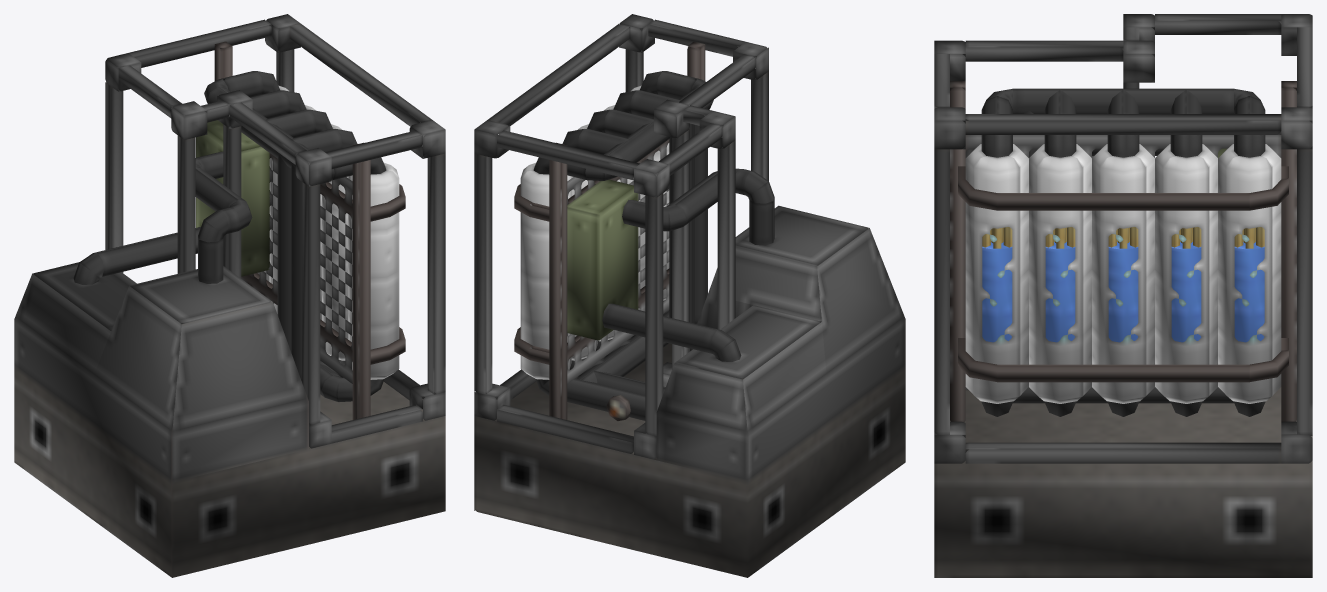
The model's file is haemodialysis_machine.obj.
3 renders of one model, left to right at view 1: azimuth 30°, elevation 25°; view 2: azimuth 150°, elevation 25°; view 3: azimuth 270°, elevation 25°, orthographic. The views are drawn at different scales.
Visible parts, largest first — view 1: mesh; view 2: mesh; view 3: mesh, water.
Boxes of the visible parts, box(x1,y1,x2,y2) form: mesh: box(14, 14, 445, 577); mesh: box(474, 14, 905, 577); mesh: box(934, 14, 1312, 577); water: box(982, 242, 1264, 342).
Size of the model in its own units: 3 by 4 by 3.
